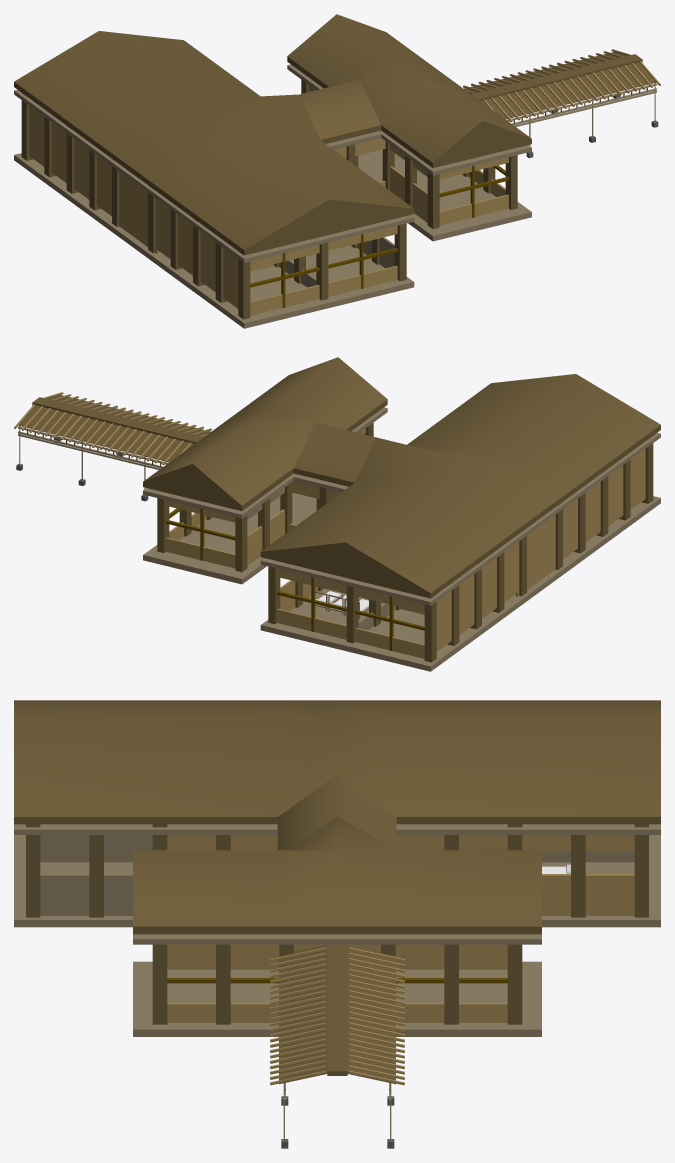
File: HOSPITAL-2.fbx
The picture shows the model from 3 angles, top to bottom: view 1: azimuth 30°, elevation 25°; view 2: azimuth 150°, elevation 25°; view 3: azimuth 270°, elevation 25°; orthographic projection. The views are drawn at different scales.
Visible parts, largest first — view 1: pCube177, pCube222, pCube219, pCube218, pCube220, polySurface111, pCube200; view 2: pCube177, pCube222, pCube219, pCube218, pCube220, polySurface111; view 3: pCube177, pCube222, pCube219, pCube218, pCube220, polySurface111, pCube200, pCube207, pCube165, pCube167.
Part boxes in pixels (box(x1,y1,x2,y2)): pCube177: box(14, 14, 531, 255); pCube222: box(14, 64, 531, 328); pCube219: box(29, 85, 508, 315); pCube218: box(21, 79, 517, 319); pCube220: box(464, 51, 656, 119); polySurface111: box(463, 49, 660, 121); pCube200: box(357, 237, 394, 268); pCube177: box(143, 357, 660, 598); pCube222: box(143, 407, 660, 671); pCube219: box(166, 428, 645, 658); pCube218: box(157, 422, 653, 662); pCube220: box(18, 394, 210, 462); polySurface111: box(14, 392, 211, 464); pCube177: box(14, 700, 660, 934); pCube222: box(14, 824, 660, 1036); pCube219: box(167, 835, 634, 1022); pCube218: box(26, 824, 648, 1024); pCube220: box(279, 944, 395, 1084); polySurface111: box(270, 947, 404, 1085); pCube200: box(40, 874, 132, 915); pCube207: box(40, 835, 152, 851); pCube165: box(542, 851, 634, 862); pCube167: box(40, 851, 132, 862).
Bounding box in the file's own units: 65.22 × 13.28 × 51.02.
